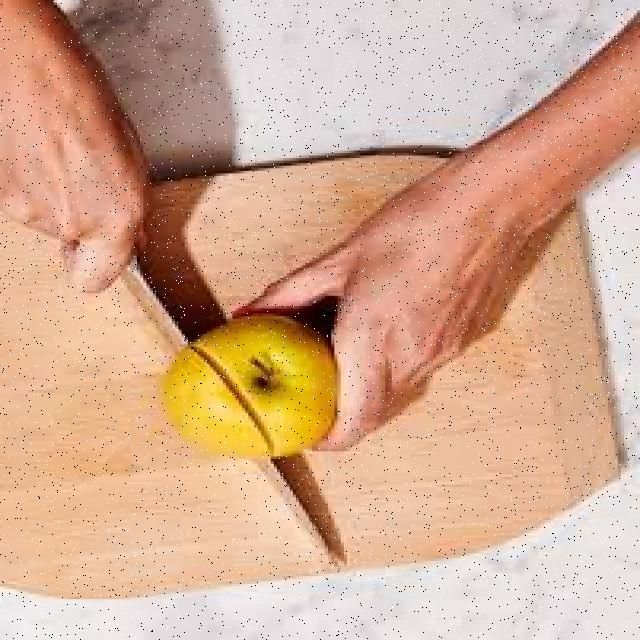Apple: (165, 316, 338, 464)
